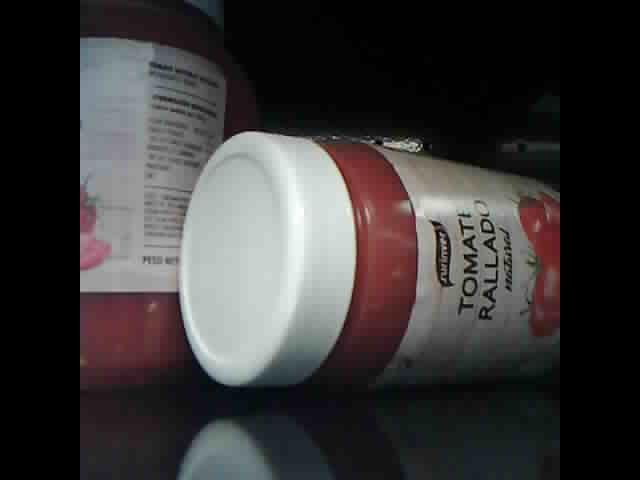tomate: (176, 129, 558, 384), (82, 3, 259, 392)
